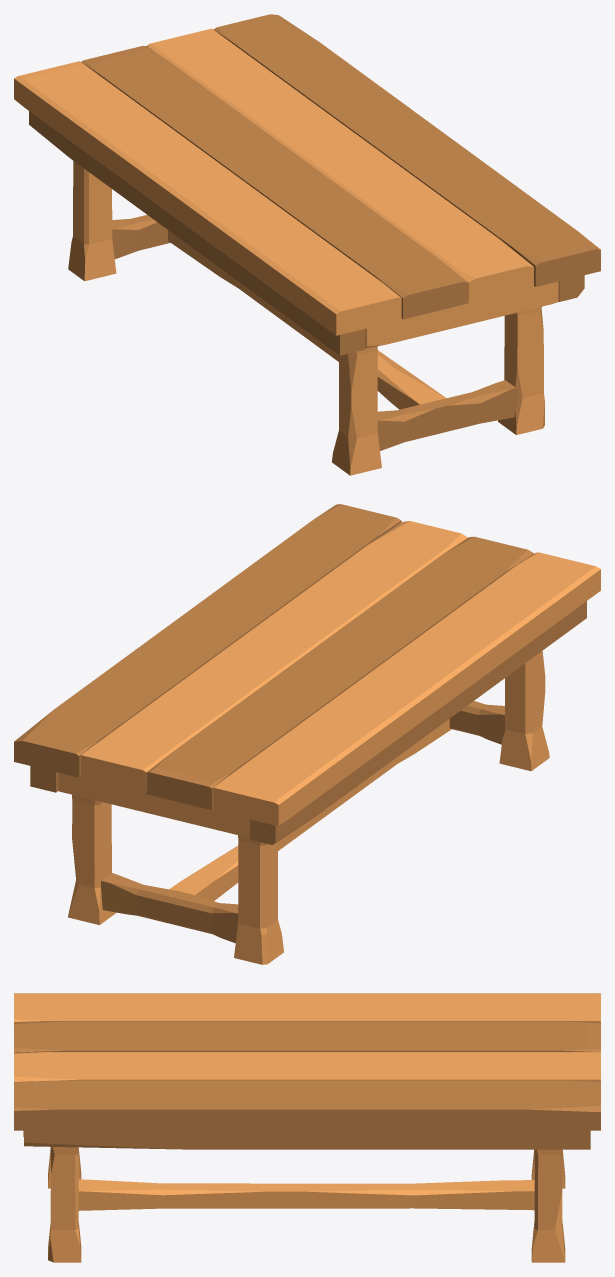
The model's file is Low Poly Table.fbx.
3 views of the same model, one above another, from view 1: azimuth 30°, elevation 25°; view 2: azimuth 150°, elevation 25°; view 3: azimuth 270°, elevation 25° (orthographic). The views are drawn at different scales.
Parts seen in each view (by area): view 1: Cube.028; view 2: Cube.028; view 3: Cube.028.
Boxes of the visible parts, left/top/right/bottom form: Cube.028: left=14, top=14, right=600, bottom=475; Cube.028: left=14, top=504, right=600, bottom=964; Cube.028: left=14, top=993, right=600, bottom=1262.
Size of the model in its own units: 132 by 87.73 by 277.
